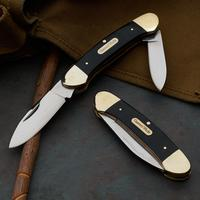knife: (3, 11, 151, 150), (141, 25, 170, 96)
